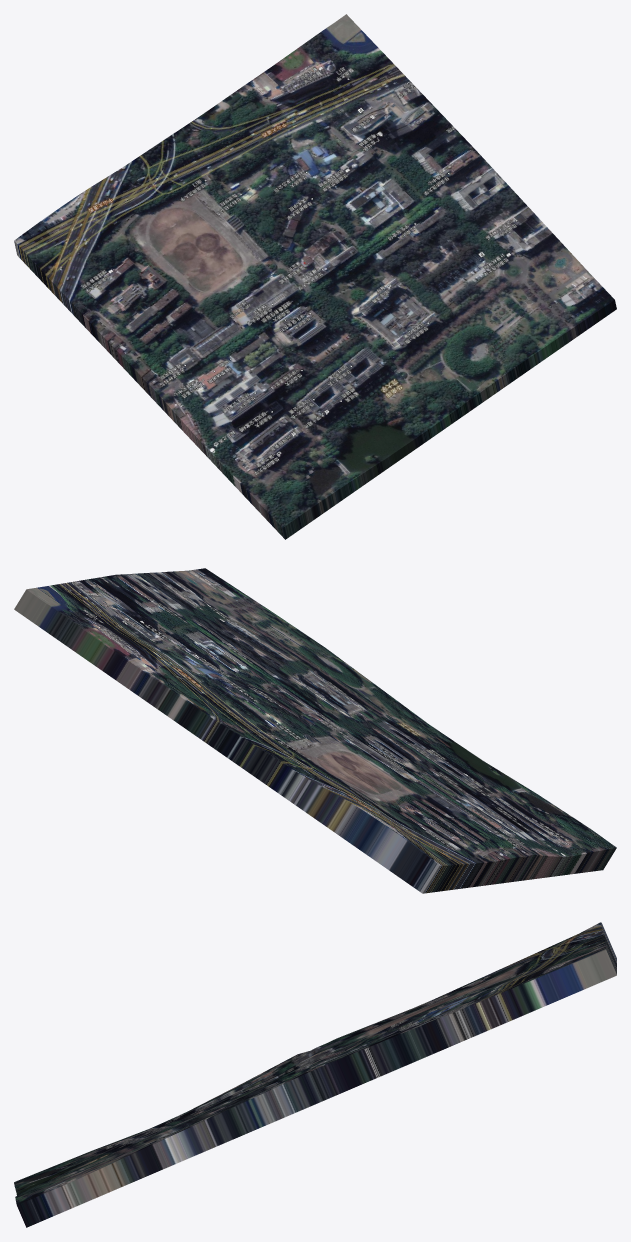
3 renders of one model, top to bottom at view 1: azimuth 30°, elevation 25°; view 2: azimuth 150°, elevation 25°; view 3: azimuth 270°, elevation 25°, orthographic. The views are drawn at different scales.
Parts seen in each view (by area): view 1: 0_7_27; view 2: 0_7_27; view 3: 0_7_27.
Boxes of the visible parts, left/top/right/bottom form: 0_7_27: left=14, top=14, right=616, bottom=539; 0_7_27: left=14, top=568, right=616, bottom=893; 0_7_27: left=14, top=922, right=616, bottom=1227.
Size of the model in its own units: 605 by 450 by 553.
Materials: 1 (1 with a texture image).
